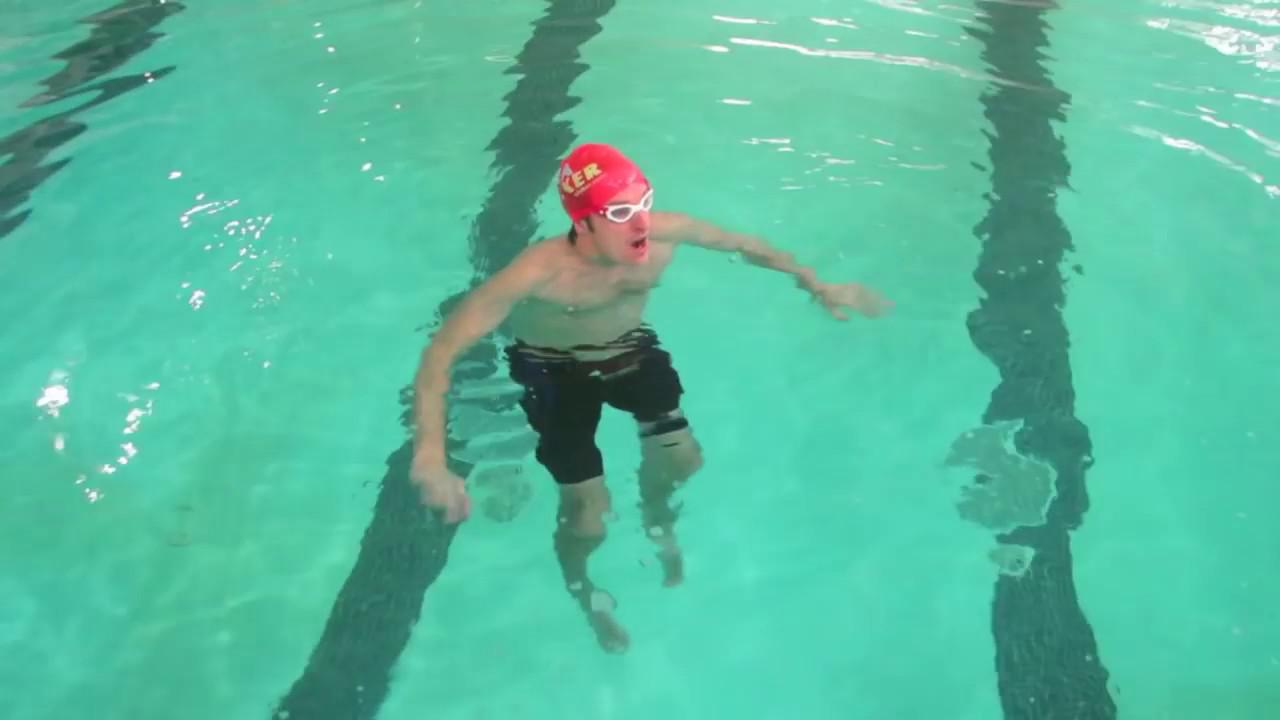swimmer: (408, 142, 892, 654)
